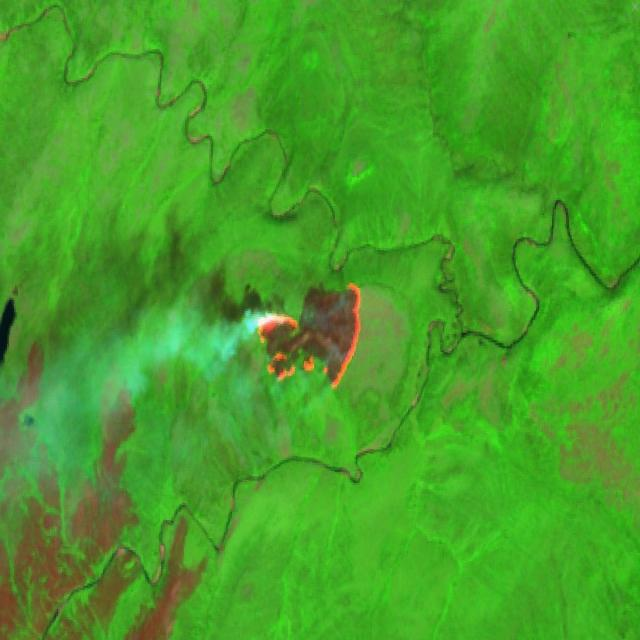fire: (252, 278, 366, 397)
